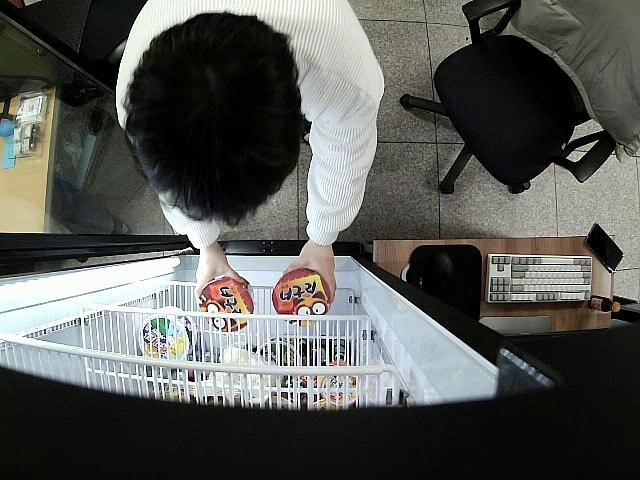05_nuguri_L: (272, 269, 332, 324), (199, 278, 253, 331)
